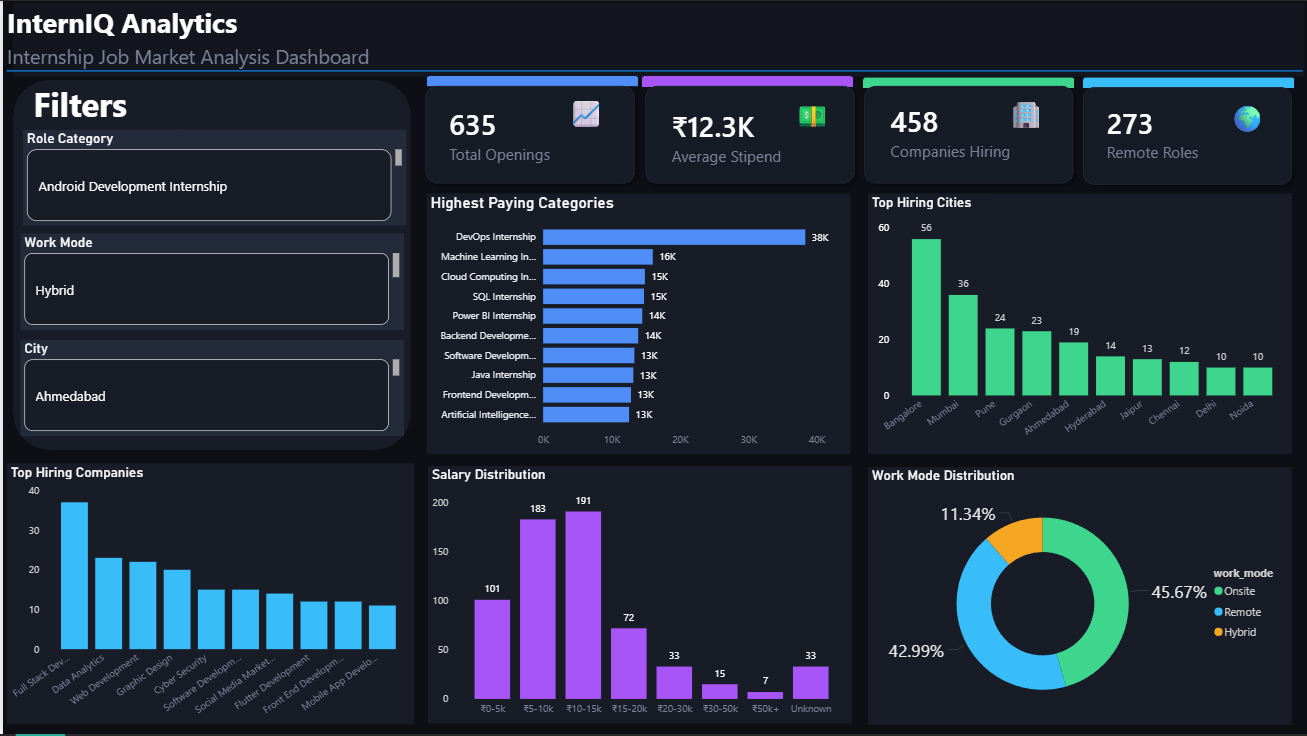

Layout of this report page (visuals, bound fields, positions):
{"tool":"powerbi","page":{"name":"Page 1","canvas":[1600,900],"ordinal":0},"visuals":[{"type":"shape","box":[11.7,1.7,1585,91.7],"z":0},{"type":"shape","box":[520.7,91.7,259.5,13],"z":0,"group":"g1"},{"type":"shape","box":[509.3,95,274.8,137.9],"z":0,"group":"g2"},{"type":"textbox","title":"InternIQ Analytics","box":[0,3.3,1587,83.3],"z":1000},{"type":"shape","box":[784,91.7,259.5,13.6],"z":1000,"group":"g1"},{"type":"cardVisual","fields":{"Data":["internships_cleaned.Total Openings"]},"box":[528.1,106.2,233.2,114.3],"z":1000,"group":"g2"},{"type":"shape","box":[4,10,1590,150],"z":2000},{"type":"shape","box":[1055.7,92.8,259.5,13.3],"z":2000,"group":"g1"},{"type":"shape","box":[778.7,95,274.8,137.9],"z":2000,"group":"g2"},{"type":"shape","box":[1325.5,92.8,259.5,13.3],"z":3000,"group":"g1"},{"type":"shape","box":[1048.1,95,274.8,137.9],"z":3000,"group":"g2"},{"type":"clusteredBarChart","title":"Highest Paying Categories","fields":{"Category":["internships_cleaned.role_category"],"Y":["Avg(internships_cleaned.avg_stipend)"]},"box":[520.2,236.9,520,320],"z":3000},{"type":"shape","box":[1316.8,96.5,274.8,137.9],"z":4000,"group":"g2"},{"type":"clusteredColumnChart","title":"Top Hiring Cities","fields":{"Category":["internships_cleaned.city"],"Y":["CountNonNull(internships_cleaned.role_category)"]},"box":[1062,236,520,320],"z":4000},{"type":"cardVisual","fields":{"Data":["internships_cleaned.Average Stipend KPI"]},"box":[801.1,108.1,233.2,114.3],"z":5000,"group":"g2"},{"type":"donutChart","title":"Work Mode Distribution","fields":{"Category":["internships_cleaned.work_mode"],"Y":["CountNonNull(internships_cleaned.internship_title)"]},"box":[1062,572,520,316],"z":5000},{"type":"cardVisual","fields":{"Data":["internships_cleaned.Total Companies"]},"box":[1068.4,102.3,240.5,114.3],"z":6000,"group":"g2"},{"type":"clusteredColumnChart","title":"Salary Distribution","fields":{"Category":["internships_cleaned.Stipend_Bucket"],"Y":["CountNonNull(internships_cleaned.internship_title)"]},"box":[522,570,520,316],"z":6000},{"type":"cardVisual","fields":{"Data":["internships_cleaned.Remote Roles"]},"box":[1334.5,104.1,240.5,114.3],"z":7000,"group":"g2"},{"type":"clusteredColumnChart","title":"Top Hiring Companies","fields":{"Category":["internships_cleaned.internship_title"],"Y":["CountNonNull(internships_cleaned.company)"]},"box":[4,568,500,320],"z":7000},{"type":"group","id":"g1","title":"Group 2","box":[509.3,91.7,1082.3,143.3],"z":8000},{"type":"group","id":"g2","title":"Group 1","box":[509.3,95,1082.3,140],"z":9000,"group":"g1"},{"type":"shape","box":[12,96,488.4,454.4],"z":9000},{"type":"textbox","title":"Filters","box":[32,100,194,72],"z":10000},{"type":"advancedSlicerVisual","title":"Role Category","fields":{"Values":["internships_cleaned.role_category"]},"box":[24,158,470,117.2],"z":11000},{"type":"textbox","box":[688.7,111,68.7,72.6],"z":12000,"group":"g2"},{"type":"advancedSlicerVisual","title":"Work Mode","fields":{"Values":["internships_cleaned.work_mode"]},"box":[22,286,470,118],"z":12000},{"type":"textbox","box":[966,111,74.1,70.8],"z":13000,"group":"g2"},{"type":"advancedSlicerVisual","title":"City","fields":{"Values":["internships_cleaned.city"]},"box":[22,416,470,118],"z":13000},{"type":"textbox","box":[1228.6,111.7,68.7,70.8],"z":14000,"group":"g2"},{"type":"textbox","box":[1500.5,116,70.5,74.4],"z":15000,"group":"g2"}]}

Visuals, with their boxes in screenshot pixels (x1, y1, x2, y2), scaled from the page's 1600x900 canvas onto the 1307x736 screenshot:
shape: 10/1/1304/76
shape: 425/75/637/86
shape: 416/78/641/190
"InternIQ Analytics" textbox: 0/3/1296/71
shape: 640/75/852/86
cardVisual - internships_cleaned.Total Openings: 431/87/622/180
shape: 3/8/1302/131
shape: 862/76/1074/87
shape: 636/78/861/190
shape: 1083/76/1295/87
shape: 856/78/1081/190
"Highest Paying Categories" clusteredBarChart: 425/194/850/455
shape: 1076/79/1300/192
"Top Hiring Cities" clusteredColumnChart: 868/193/1292/455
cardVisual - internships_cleaned.Average Stipend KPI: 654/88/845/182
"Work Mode Distribution" donutChart: 868/468/1292/726
cardVisual - internships_cleaned.Total Companies: 873/84/1069/177
"Salary Distribution" clusteredColumnChart: 426/466/851/725
cardVisual - internships_cleaned.Remote Roles: 1090/85/1287/179
"Top Hiring Companies" clusteredColumnChart: 3/464/412/726
"Group 2" group: 416/75/1300/192
"Group 1" group: 416/78/1300/192
shape: 10/79/409/450
"Filters" textbox: 26/82/185/141
"Role Category" advancedSlicerVisual: 20/129/404/225
textbox: 563/91/619/150
"Work Mode" advancedSlicerVisual: 18/234/402/330
textbox: 789/91/850/149
"City" advancedSlicerVisual: 18/340/402/437
textbox: 1004/91/1060/149
textbox: 1226/95/1283/156
